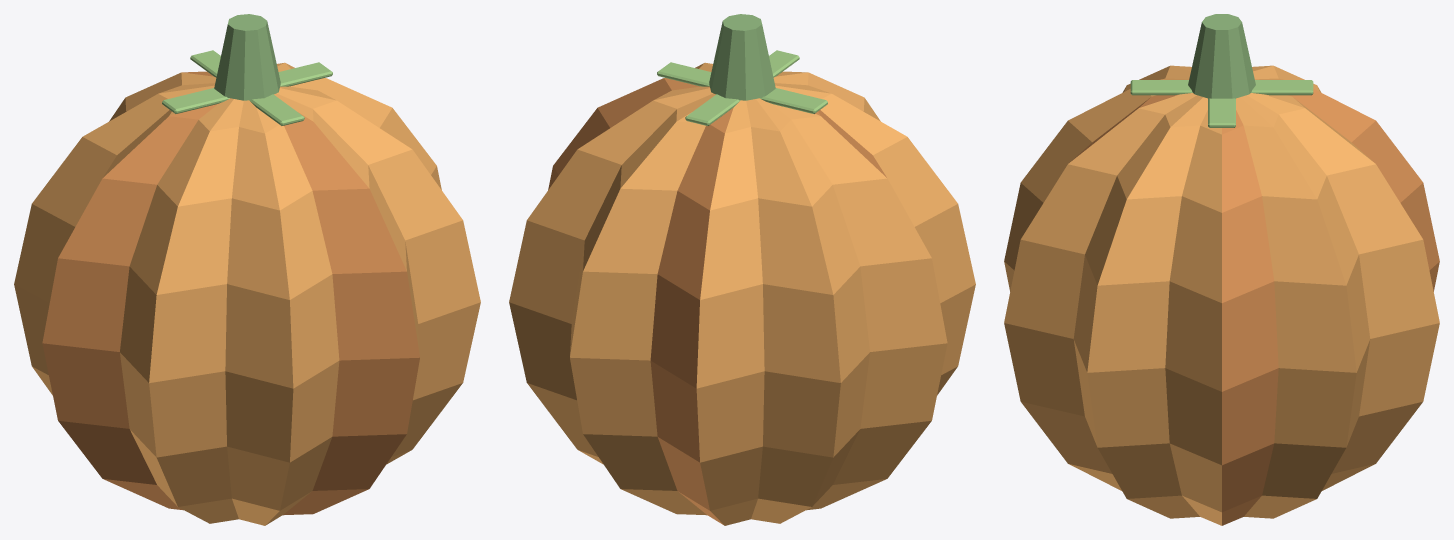
Rendered from FTF_Plant_GiantPumpkin_5_5m.glb.
The picture shows the model from 3 angles, left to right: view 1: azimuth 30°, elevation 25°; view 2: azimuth 150°, elevation 25°; view 3: azimuth 270°, elevation 25°; orthographic projection.
Parts seen in each view (by area): view 1: GiantPumpkinFruit, GiantPumpkinStem, CrownLeaf_3, CrownLeaf_4, CrownLeaf_1; view 2: GiantPumpkinFruit, GiantPumpkinStem, CrownLeaf_3, CrownLeaf_2, CrownLeaf_1; view 3: GiantPumpkinFruit, GiantPumpkinStem, CrownLeaf_2, CrownLeaf_4, CrownLeaf_1.
Part boxes in pixels (x1,y1,x2,y2): GiantPumpkinFruit: [14, 62, 480, 525]; GiantPumpkinStem: [214, 14, 280, 100]; CrownLeaf_3: [162, 88, 229, 113]; CrownLeaf_4: [249, 94, 304, 125]; CrownLeaf_1: [278, 62, 332, 86]; GiantPumpkinFruit: [509, 62, 975, 525]; GiantPumpkinStem: [709, 14, 775, 100]; CrownLeaf_3: [760, 88, 827, 113]; CrownLeaf_2: [685, 94, 740, 125]; CrownLeaf_1: [657, 62, 711, 86]; GiantPumpkinFruit: [1004, 65, 1439, 525]; GiantPumpkinStem: [1188, 14, 1255, 98]; CrownLeaf_2: [1251, 80, 1313, 95]; CrownLeaf_4: [1130, 80, 1192, 95]; CrownLeaf_1: [1208, 98, 1235, 127].
Bounding box in the file's own units: 4.7 × 5.29 × 4.34.
